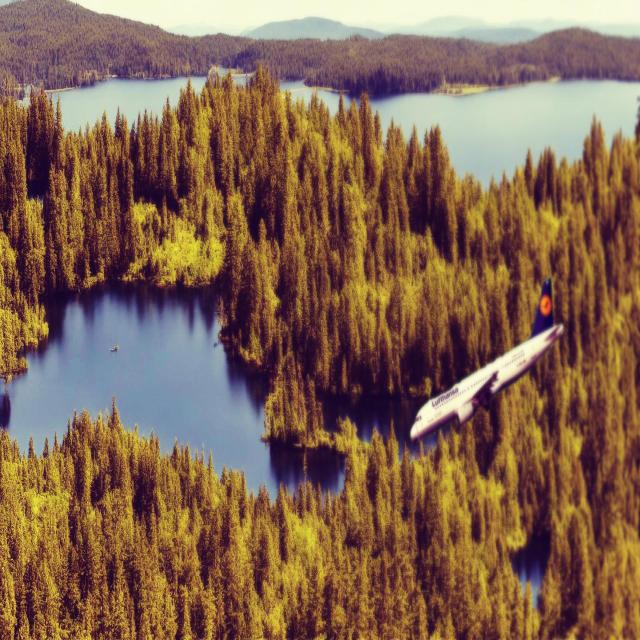airplane: (409, 276, 564, 443)
